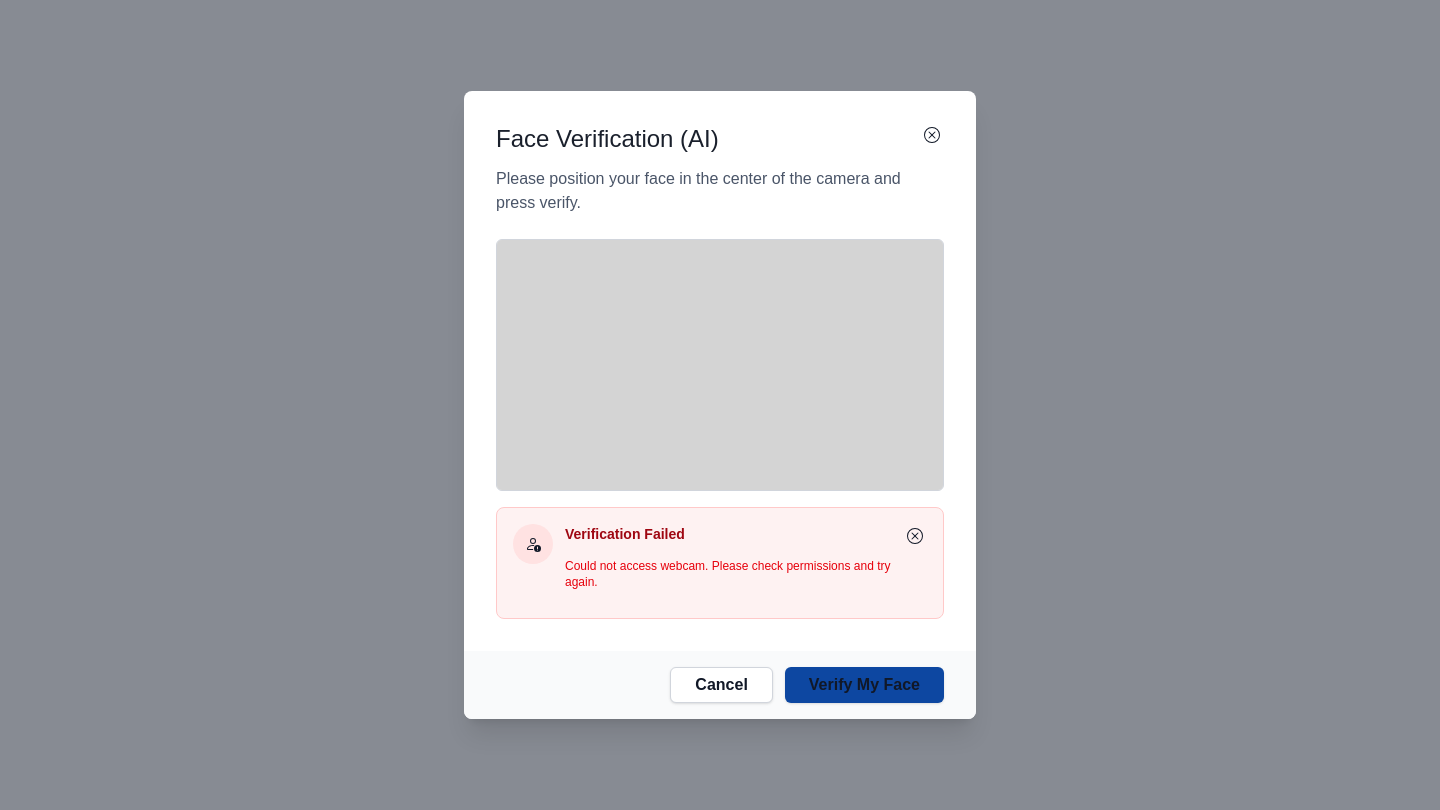
Test: TestFaceVerificationModal — Face verification logic khi vào thi › VF-022 — should_show_generic_error_when_error_has_no_message
The width and height of the screenshot is (1440, 810).
Click the button "Verify My Face": (864, 685) [785,667,944,703]
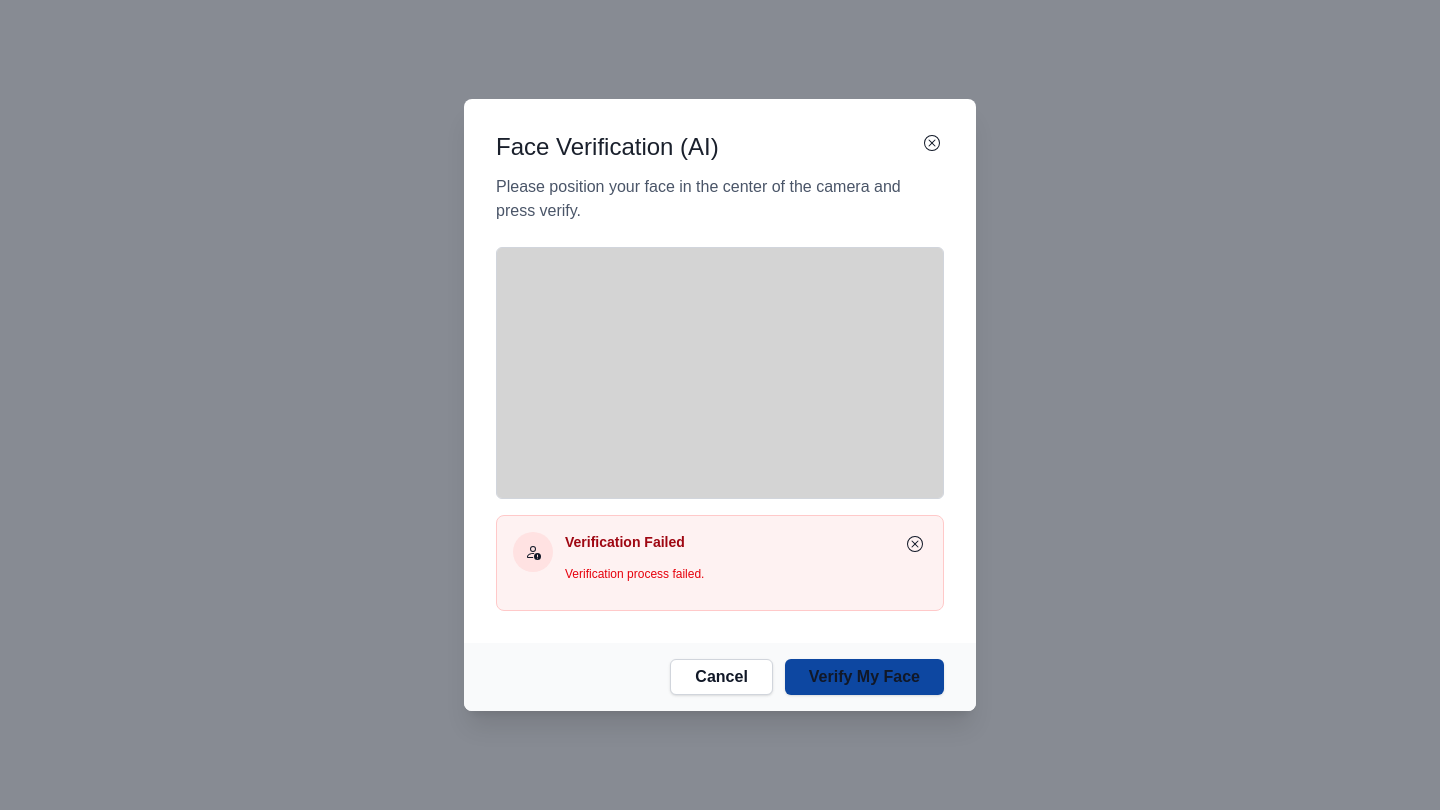
Expected: the text "Verification process failed." is shown, [565,567,704,581]
